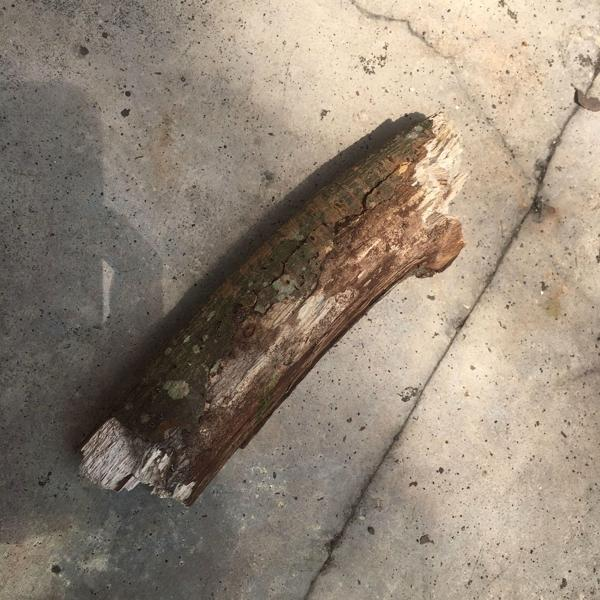Organik: (80, 113, 460, 500)
